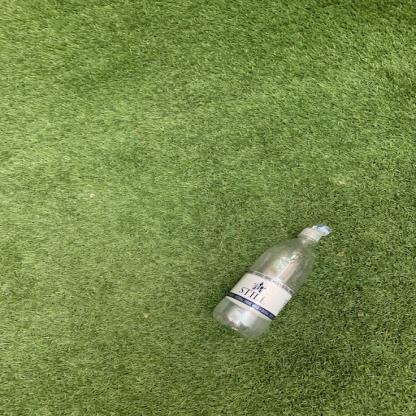trash: (212, 223, 331, 343)
